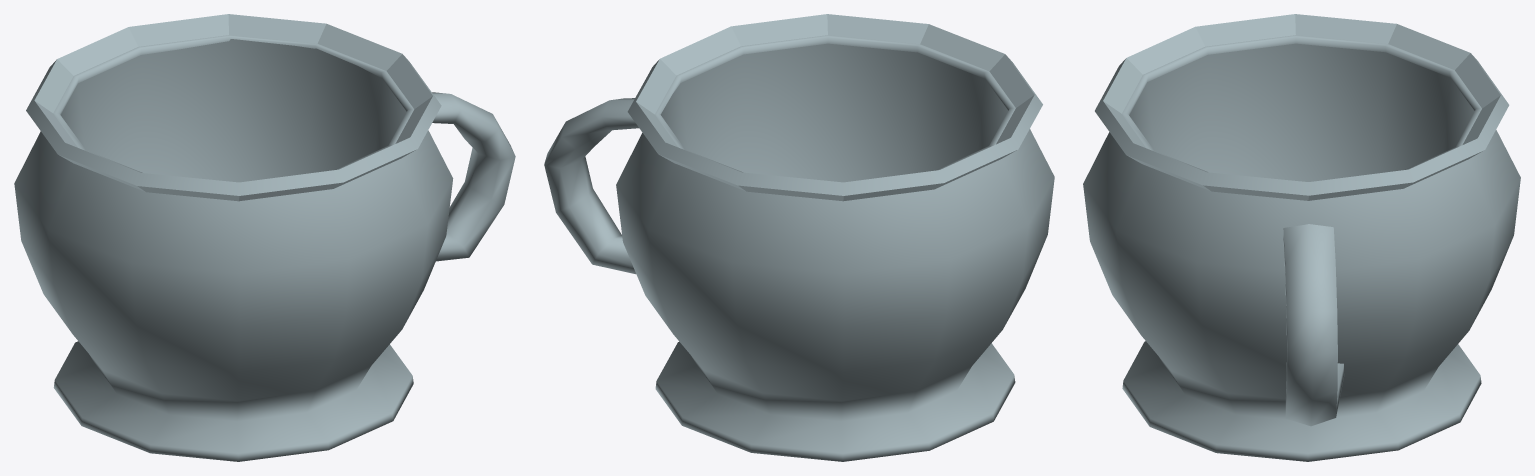
File: MUG.fbx
3 views of the same model, side by side, from view 1: azimuth 30°, elevation 25°; view 2: azimuth 150°, elevation 25°; view 3: azimuth 270°, elevation 25° (orthographic).
Visible parts, largest first — view 1: teacup2; view 2: teacup2; view 3: teacup2.
Boxes of the visible parts, x1,y1,x2,y2 form: teacup2: (14, 14, 515, 461); teacup2: (544, 14, 1054, 461); teacup2: (1083, 14, 1520, 461).
Size of the model in its own units: 4.55 by 2.73 by 3.65.
